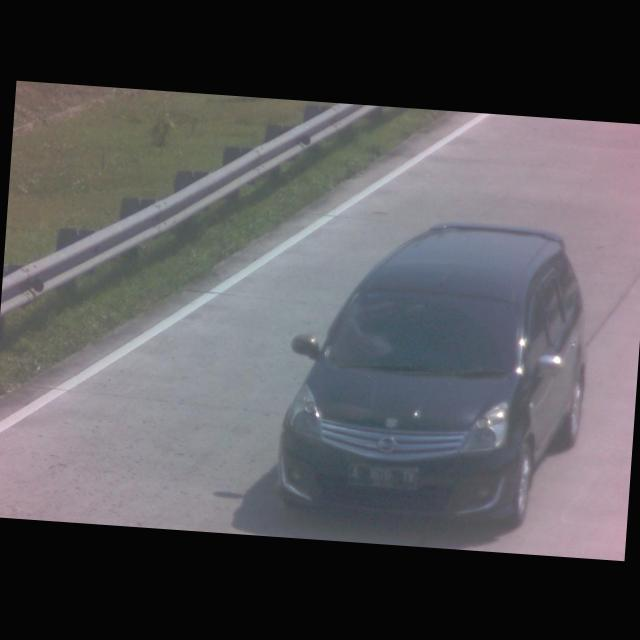plate: (344, 461, 418, 491)
